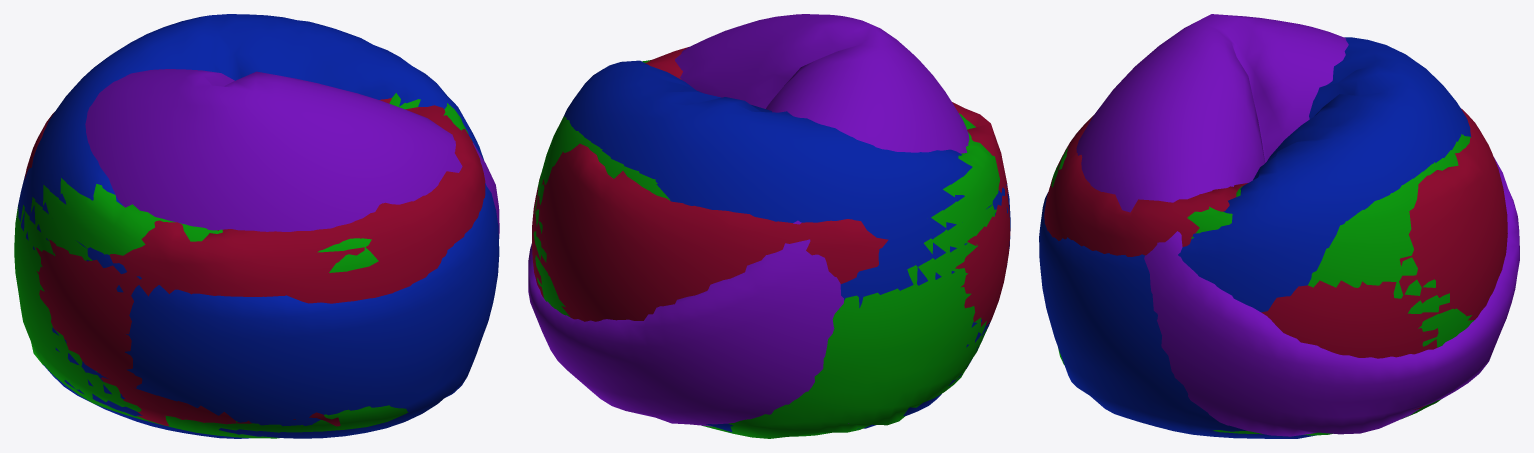
File: Puffs.fbx
3 views of the same model, side by side, from view 1: azimuth 30°, elevation 25°; view 2: azimuth 150°, elevation 25°; view 3: azimuth 270°, elevation 25° (orthographic). The views are drawn at different scales.
Parts seen in each view (by area): view 1: puff azul, puff roxo, puff vermelho, puff verde; view 2: puff roxo, puff azul, puff vermelho, puff verde; view 3: puff roxo, puff azul, puff vermelho, puff verde.
Boxes of the visible parts, x1,y1,x2,y2 form: puff azul: [18, 14, 499, 438]; puff roxo: [85, 69, 499, 238]; puff vermelho: [24, 98, 485, 426]; puff verde: [14, 93, 471, 438]; puff roxo: [528, 14, 969, 426]; puff azul: [563, 60, 1010, 432]; puff vermelho: [532, 47, 1010, 328]; puff verde: [533, 60, 999, 438]; puff roxo: [1076, 14, 1519, 436]; puff azul: [1039, 37, 1471, 438]; puff vermelho: [1044, 108, 1507, 409]; puff verde: [1051, 134, 1474, 435].
Bounding box in the file's own units: 704 × 501 × 711.
